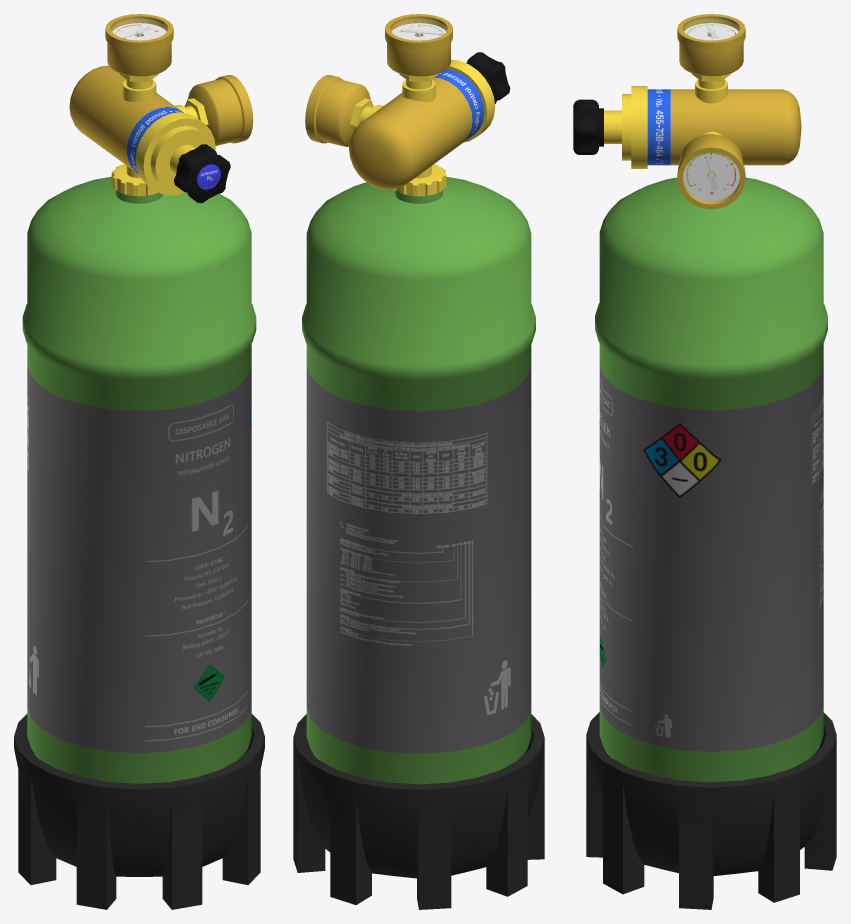
Rendered from nitrogen_bottle.glb.
3 views of the same model, side by side, from view 1: azimuth 30°, elevation 25°; view 2: azimuth 150°, elevation 25°; view 3: azimuth 270°, elevation 25° (orthographic).
Visible parts, largest first — view 1: NitrogenBottle_Bottle_0, NitrogenBottle_Valve_0, NitrogenBottle_Glass_0; view 2: NitrogenBottle_Bottle_0, NitrogenBottle_Valve_0, NitrogenBottle_Glass_0; view 3: NitrogenBottle_Bottle_0, NitrogenBottle_Valve_0, NitrogenBottle_Glass_0.
Part boxes in pixels (<box>): NitrogenBottle_Bottle_0: <box>14,176,264,909</box>; NitrogenBottle_Valve_0: <box>69,14,253,203</box>; NitrogenBottle_Glass_0: <box>111,19,167,39</box>; NitrogenBottle_Bottle_0: <box>293,177,544,909</box>; NitrogenBottle_Valve_0: <box>305,14,510,196</box>; NitrogenBottle_Glass_0: <box>391,19,446,39</box>; NitrogenBottle_Bottle_0: <box>586,177,836,909</box>; NitrogenBottle_Valve_0: <box>573,14,801,209</box>; NitrogenBottle_Glass_0: <box>683,19,739,202</box>.
Size of the model in its own units: 13.12 by 47.91 by 13.8.
Materials: 3 (2 with a texture image).
